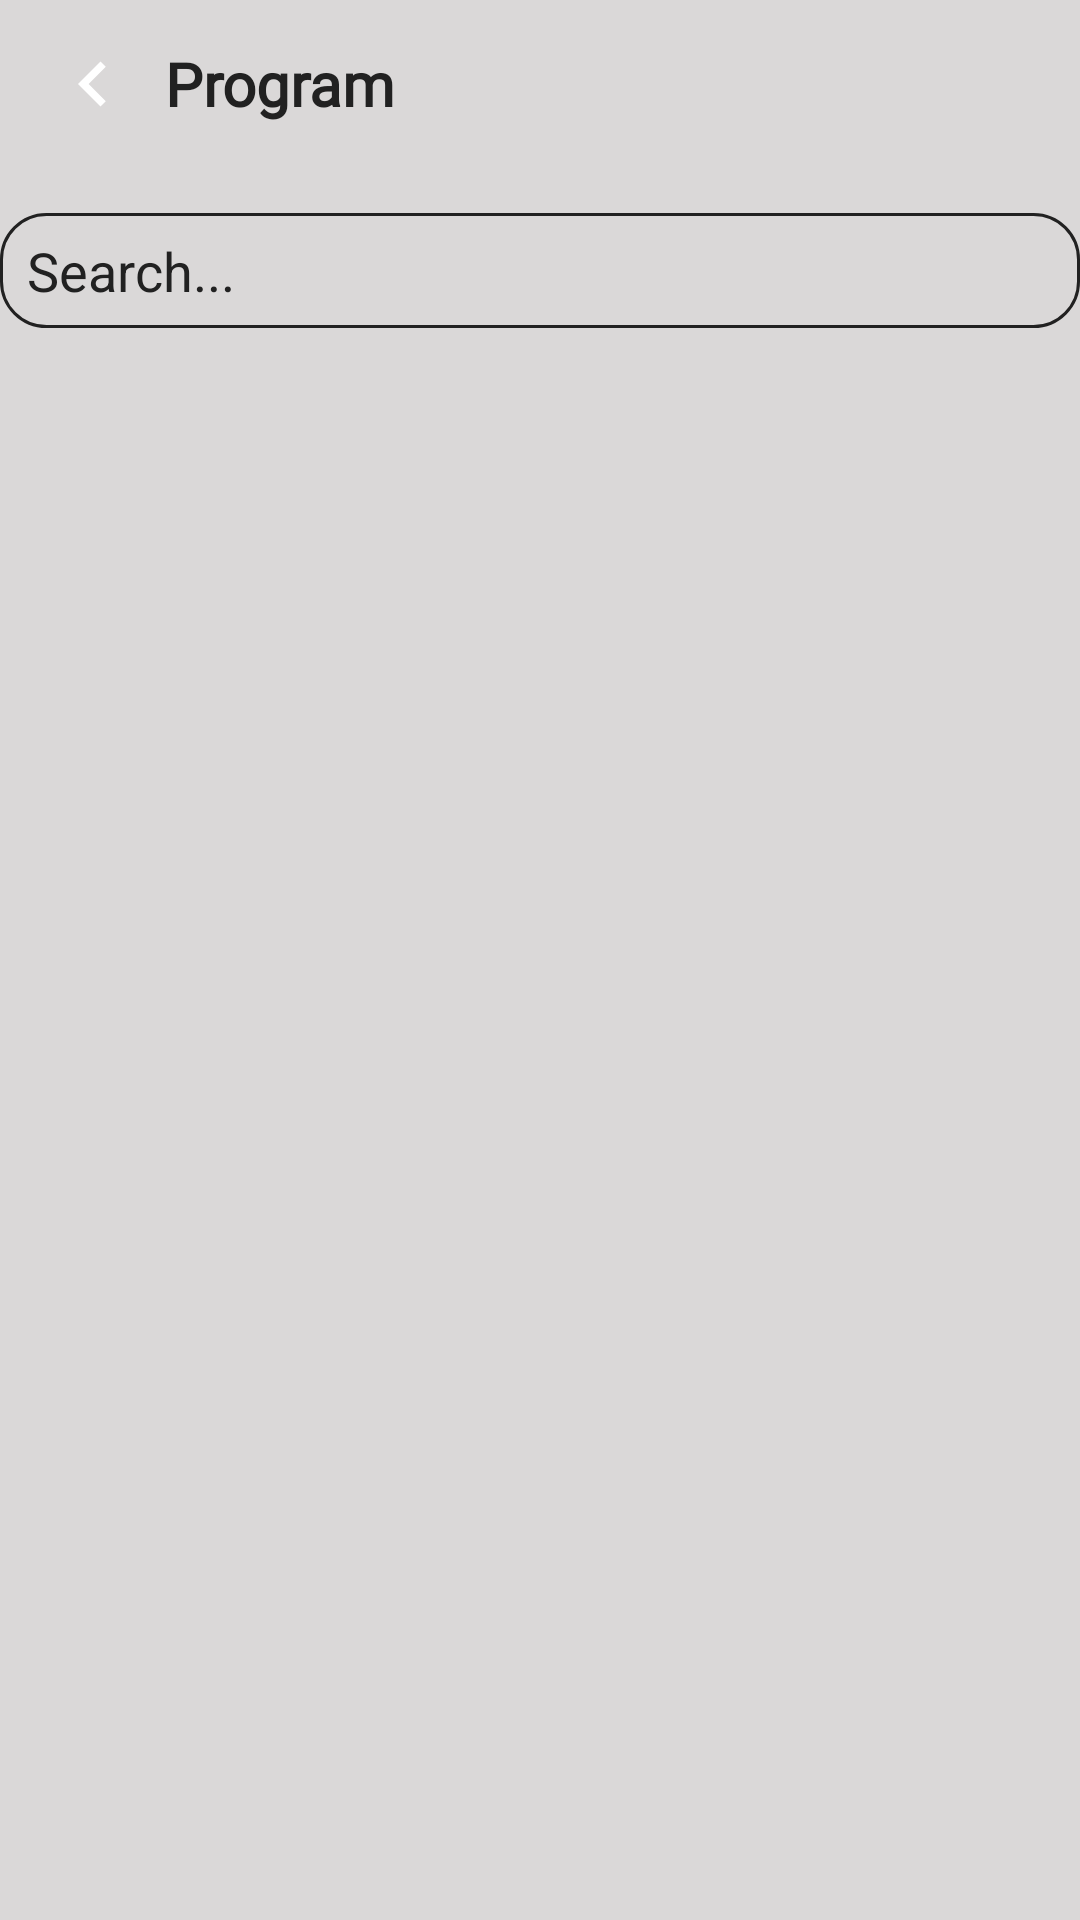

Locate icon controls on the screen. Image size 1080 × 1920, boxes as (x1, y1, x2, y2).
back: (79, 62, 105, 106)
